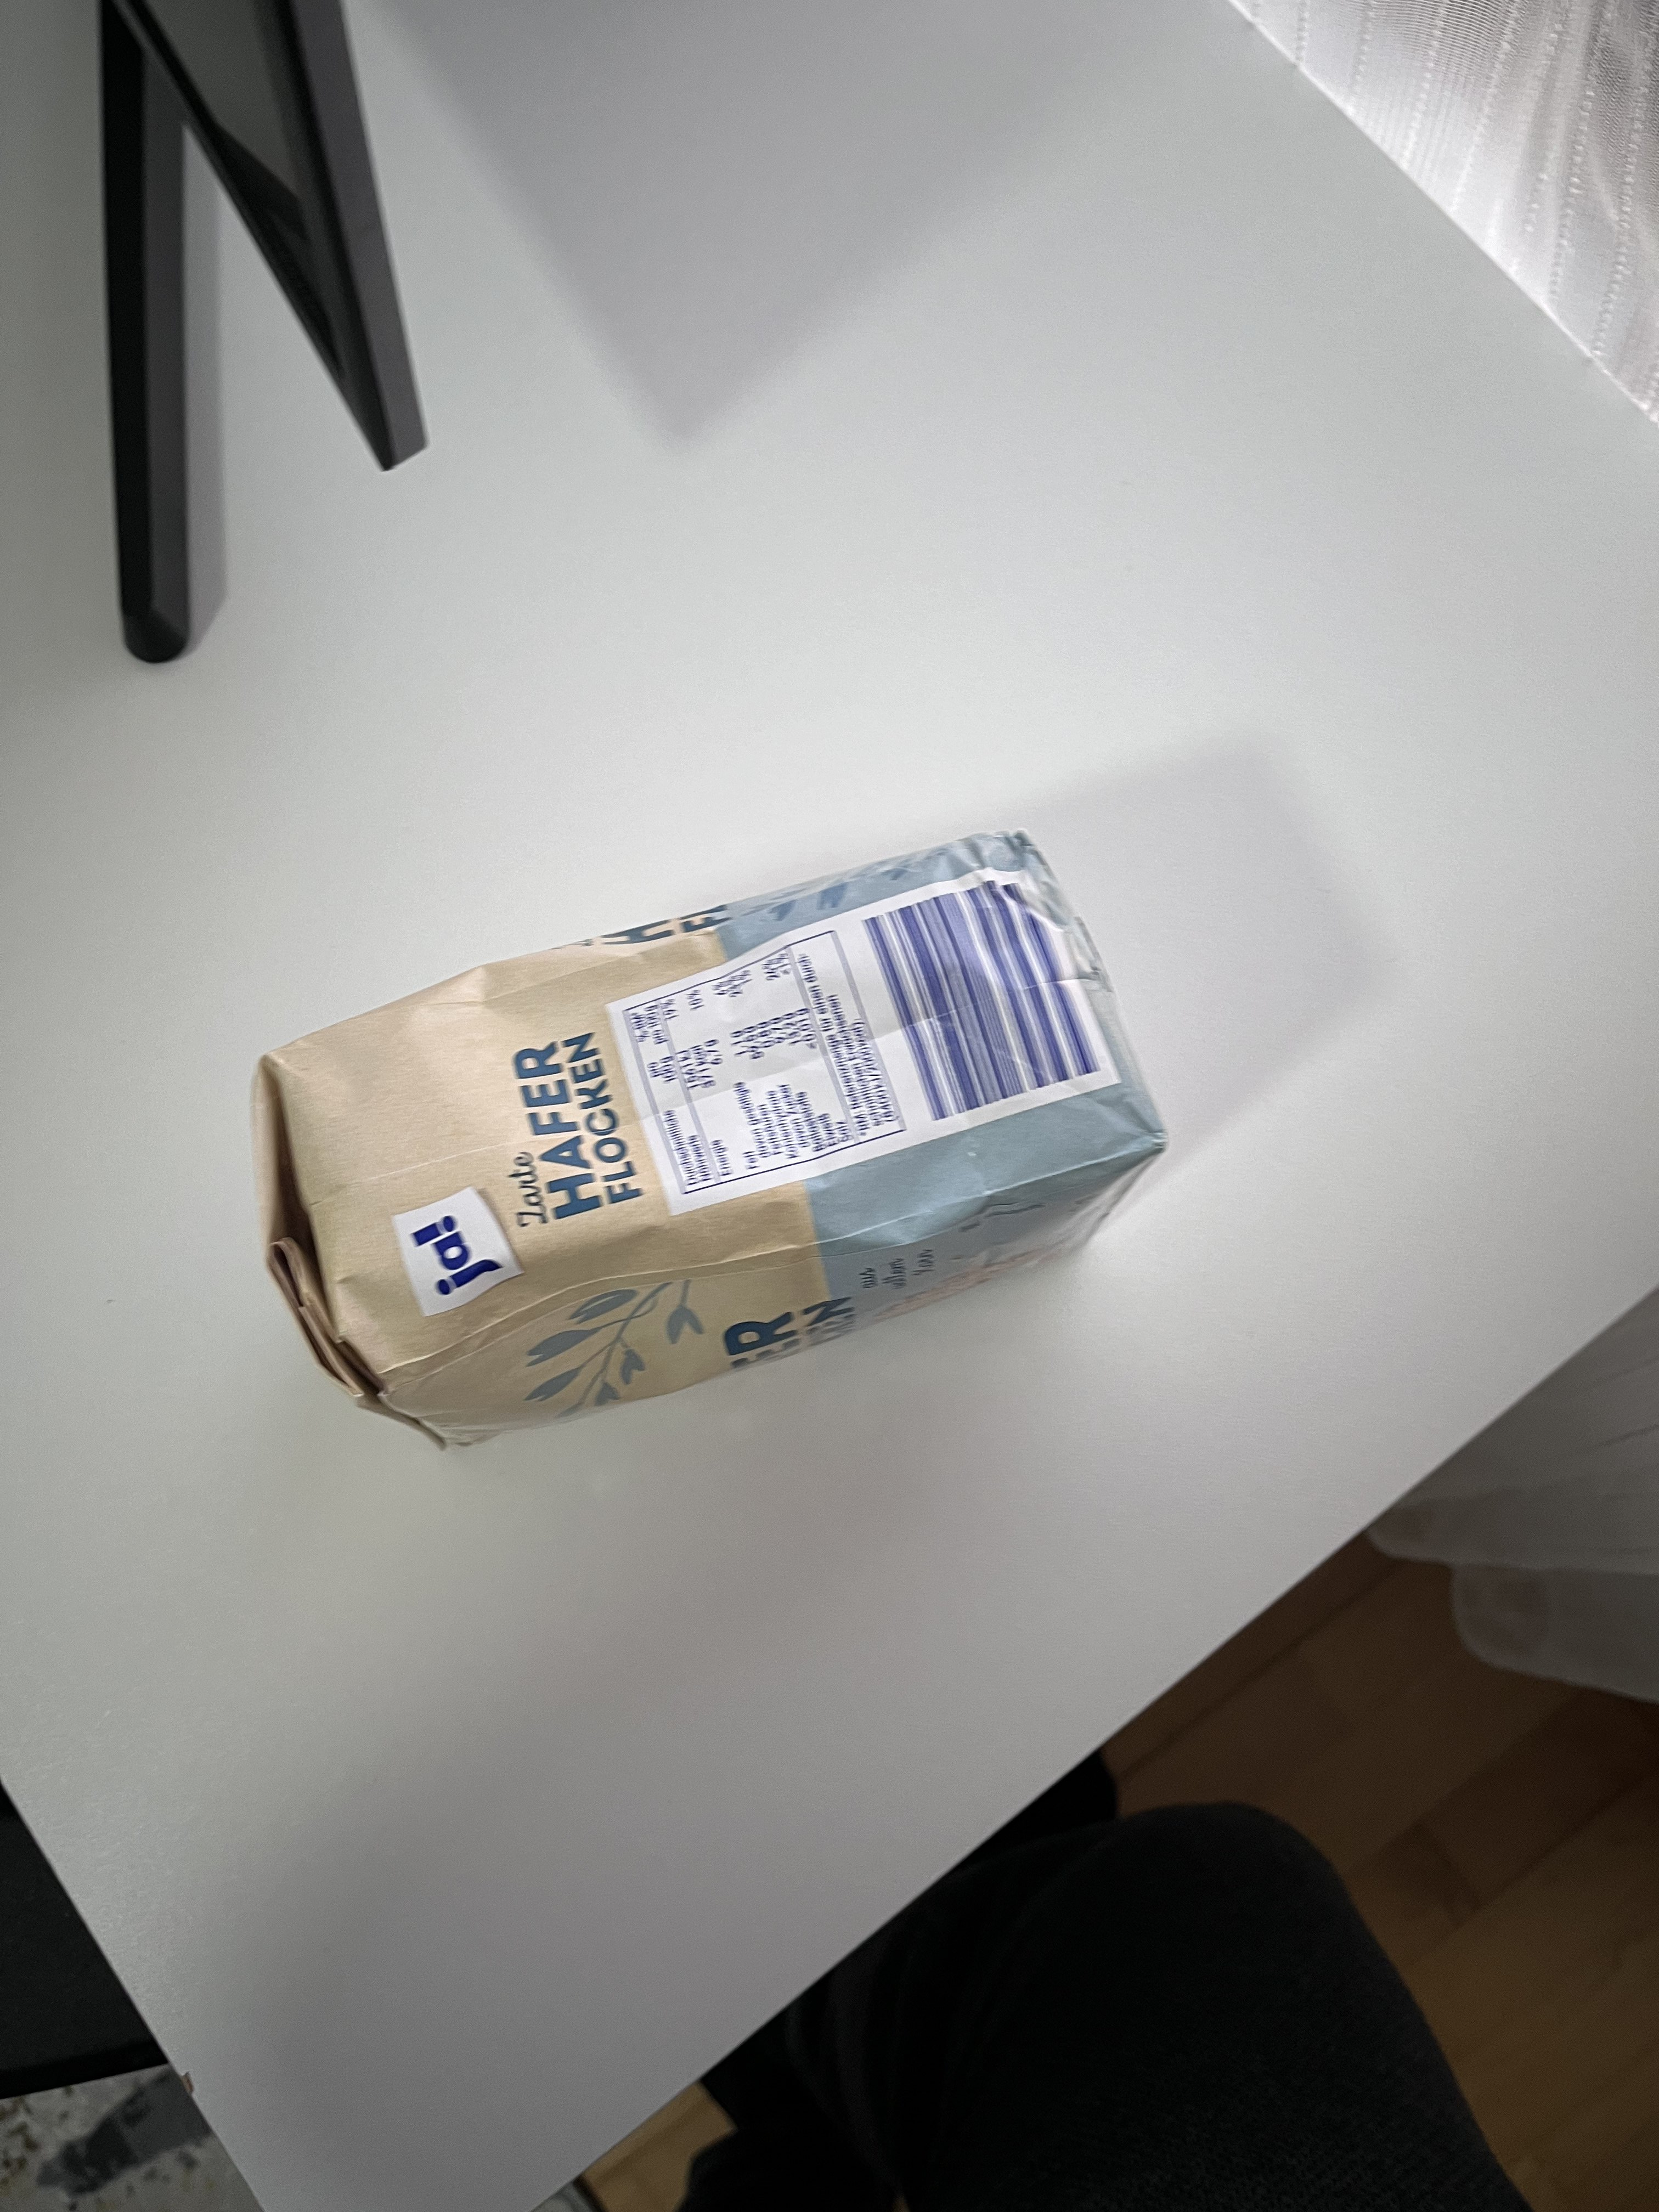haferflocken_ja: (246, 829, 1173, 1437)
